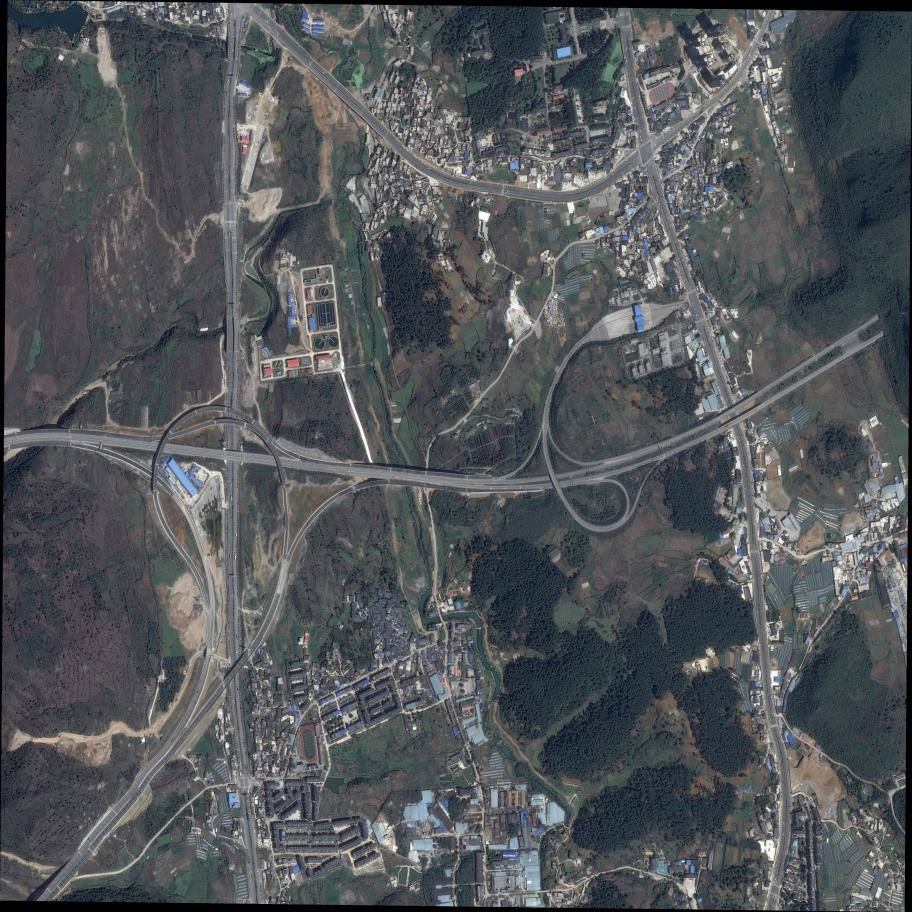large-vehicle: (193, 700, 198, 706), (725, 425, 730, 429), (196, 691, 200, 695), (755, 618, 758, 623), (236, 635, 239, 640), (234, 555, 237, 560), (773, 713, 776, 717), (393, 475, 397, 478), (770, 695, 772, 700), (229, 554, 231, 559), (236, 532, 237, 537)
small-vehicle: (87, 837, 92, 842), (583, 196, 588, 200), (701, 106, 705, 111), (59, 735, 63, 739), (649, 369, 653, 373), (668, 442, 672, 446), (653, 143, 657, 147), (235, 650, 238, 655), (235, 587, 238, 592), (256, 870, 259, 875), (250, 859, 253, 864), (666, 215, 669, 220), (736, 435, 739, 439), (30, 738, 34, 741), (760, 404, 763, 408), (322, 71, 325, 75), (324, 71, 328, 74), (245, 90, 248, 94), (549, 317, 553, 320), (232, 698, 235, 702), (251, 874, 254, 878), (239, 762, 242, 766), (623, 516, 626, 520), (589, 524, 593, 527), (662, 444, 666, 447), (709, 337, 712, 341), (695, 313, 698, 317), (479, 146, 482, 150), (395, 138, 399, 141), (322, 858, 325, 862), (660, 180, 664, 183), (669, 225, 672, 229), (682, 258, 685, 262), (677, 307, 681, 310), (231, 495, 233, 500), (237, 688, 239, 693), (237, 746, 239, 751), (782, 832, 785, 835), (546, 319, 549, 322), (330, 855, 333, 858), (344, 838, 347, 841), (330, 466, 333, 469), (230, 483, 233, 486), (306, 463, 309, 466), (506, 190, 509, 193), (651, 160, 654, 163), (625, 158, 628, 161), (577, 43, 580, 46), (628, 466, 631, 469), (643, 373, 646, 376), (654, 333, 657, 336), (414, 155, 417, 158), (403, 146, 406, 149), (406, 149, 409, 152), (421, 160, 424, 163), (423, 162, 426, 165), (425, 163, 428, 166), (429, 167, 432, 170), (663, 178, 666, 181), (656, 194, 659, 197), (658, 202, 661, 205), (671, 324, 674, 327), (831, 345, 835, 347), (228, 232, 230, 236), (753, 518, 755, 522), (231, 41, 233, 45), (778, 759, 780, 763), (783, 820, 785, 824), (231, 12, 233, 16), (304, 854, 306, 858), (317, 854, 319, 858), (293, 828, 295, 832), (231, 52, 233, 56), (230, 69, 232, 73), (228, 78, 230, 82), (549, 311, 551, 315), (295, 840, 297, 844), (236, 545, 238, 549), (234, 390, 236, 394), (235, 366, 237, 370), (227, 100, 229, 104), (237, 33, 239, 37), (632, 96, 634, 100), (250, 869, 252, 873), (245, 765, 247, 769), (236, 736, 238, 740), (626, 299, 628, 303), (639, 129, 641, 133), (579, 48, 581, 52), (773, 899, 775, 903), (681, 338, 683, 342), (315, 840, 317, 844), (681, 335, 683, 339), (653, 164, 655, 168), (653, 168, 655, 172), (675, 240, 677, 244), (104, 437, 107, 439), (754, 523, 756, 526), (331, 840, 333, 843), (287, 828, 289, 831), (242, 86, 244, 89), (232, 52, 234, 55), (231, 593, 233, 596), (639, 135, 641, 138), (556, 90, 558, 93), (632, 106, 634, 109), (634, 106, 636, 109), (240, 766, 242, 769), (305, 840, 307, 843), (339, 826, 341, 829), (757, 497, 759, 500), (626, 59, 628, 62), (649, 350, 651, 353), (625, 300, 627, 303), (624, 300, 626, 303), (569, 10, 572, 12), (648, 341, 650, 344), (575, 22, 578, 24), (651, 336, 654, 338), (744, 487, 746, 490), (641, 374, 644, 376), (653, 334, 655, 337), (639, 375, 642, 377), (645, 372, 647, 375), (644, 368, 646, 371), (634, 344, 637, 346), (658, 331, 661, 333), (683, 350, 685, 353), (637, 121, 639, 124), (415, 157, 418, 159), (380, 667, 383, 669), (298, 840, 300, 843), (682, 347, 684, 350), (650, 161, 652, 164), (652, 189, 654, 192), (680, 332, 682, 335), (661, 329, 664, 331), (671, 327, 674, 329), (675, 323, 678, 325), (680, 329, 682, 332), (757, 608, 758, 613), (232, 48, 233, 52), (290, 840, 291, 844), (232, 658, 233, 662), (550, 201, 552, 203), (558, 89, 559, 93), (545, 52, 547, 54), (545, 53, 547, 55), (545, 55, 547, 57), (575, 21, 577, 23), (656, 332, 658, 334), (572, 21, 574, 23), (297, 828, 298, 832), (237, 41, 238, 44), (291, 828, 292, 831), (300, 828, 301, 831), (230, 474, 231, 477), (625, 56, 626, 59), (626, 46, 627, 49), (649, 346, 650, 349), (743, 463, 744, 466), (756, 498, 757, 500)
